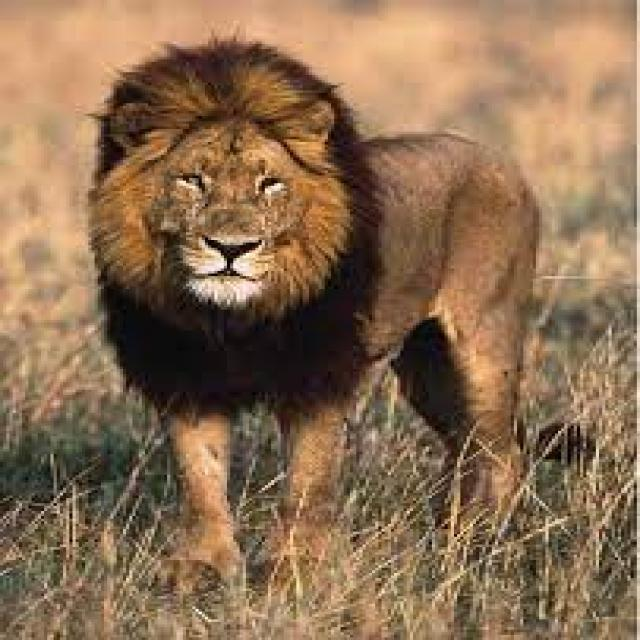Carnivorous: (88, 39, 542, 591)
